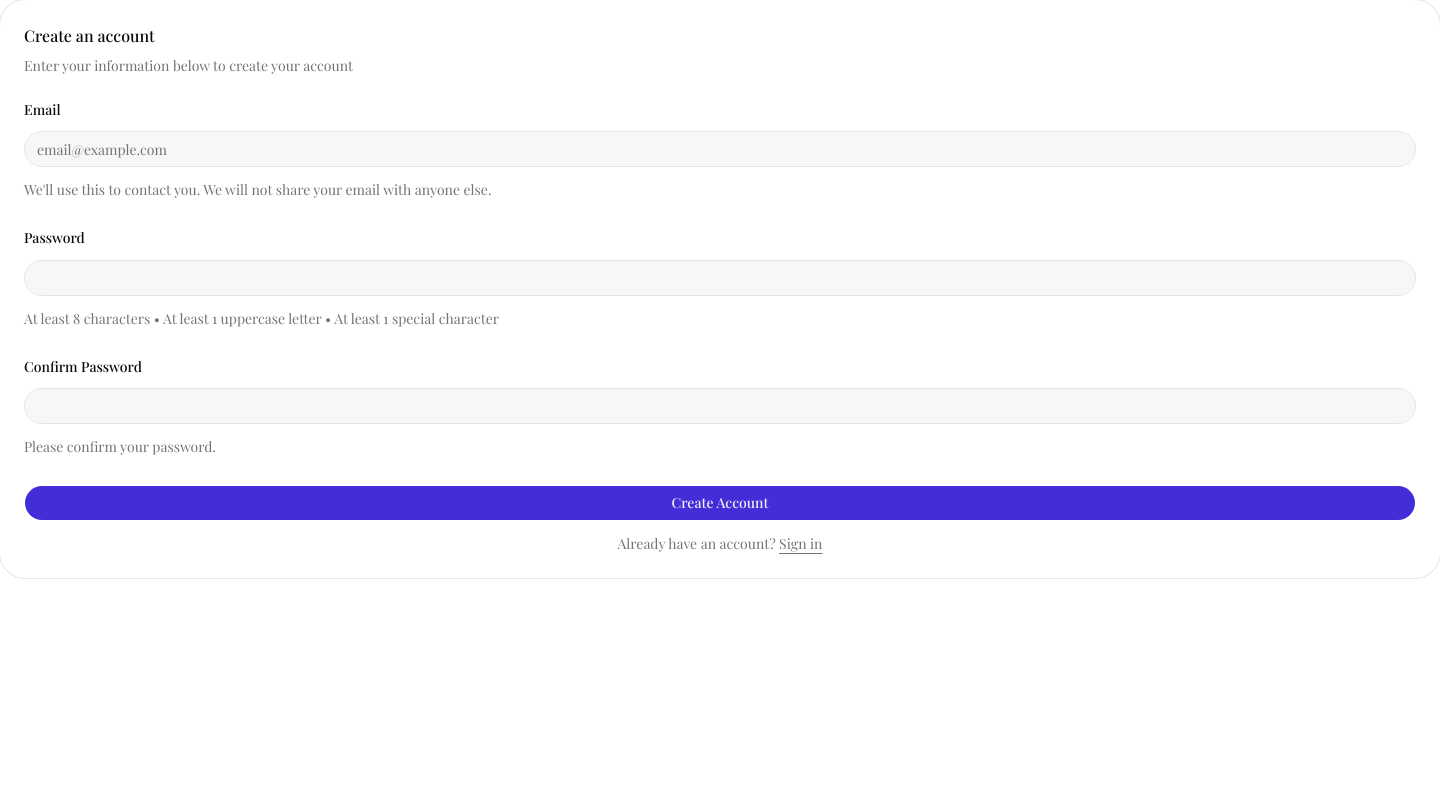
SignupForm › shows error when passwords do not match
This screenshot has width=1440, height=810.
Type "test@example.com" into the field labelled "Email".
click(720, 149); type("test@example.com")  # box [24,131,1416,167]
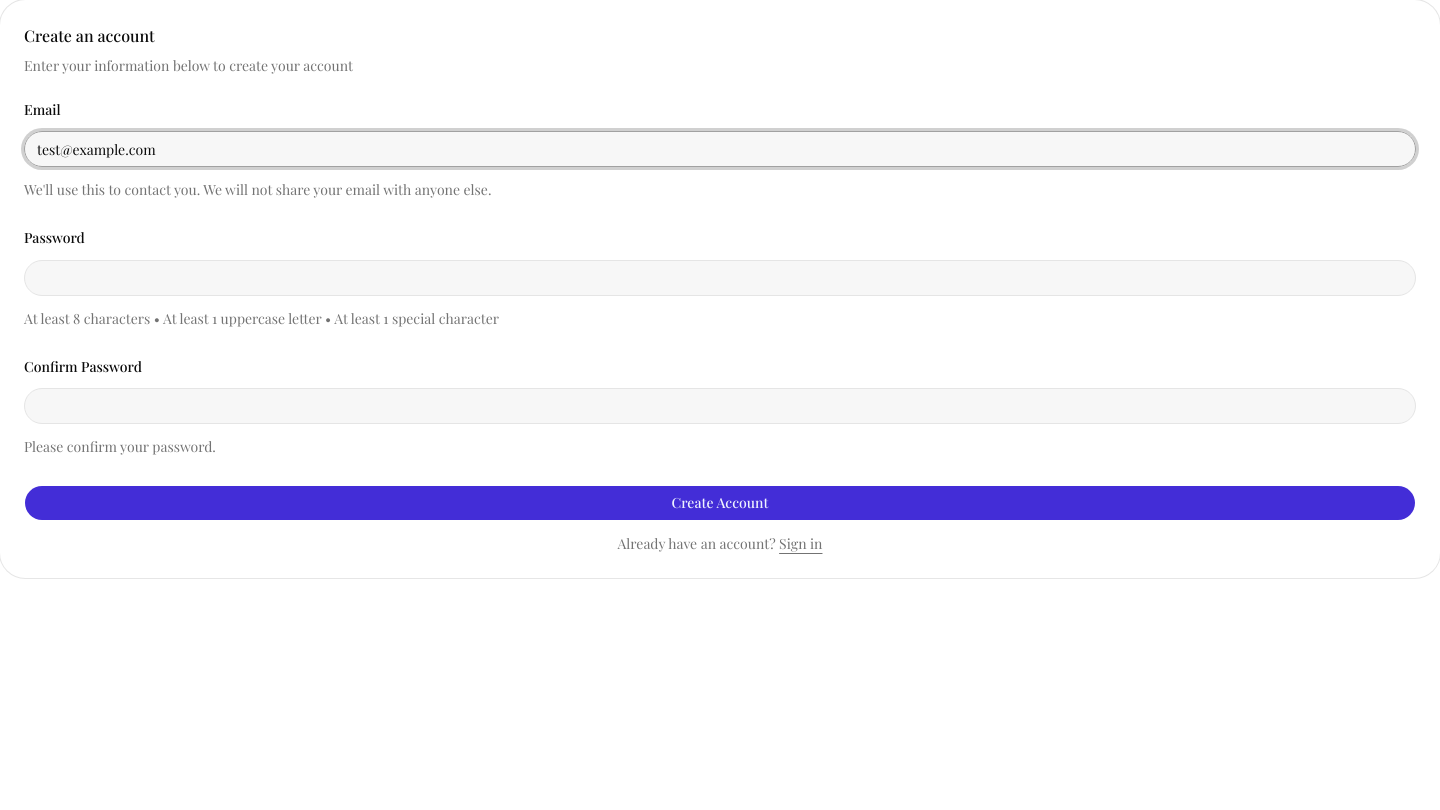
Type "Password1!" into the password field labelled "Password".
click(720, 278); type("Password1!")  # box [24,260,1416,296]
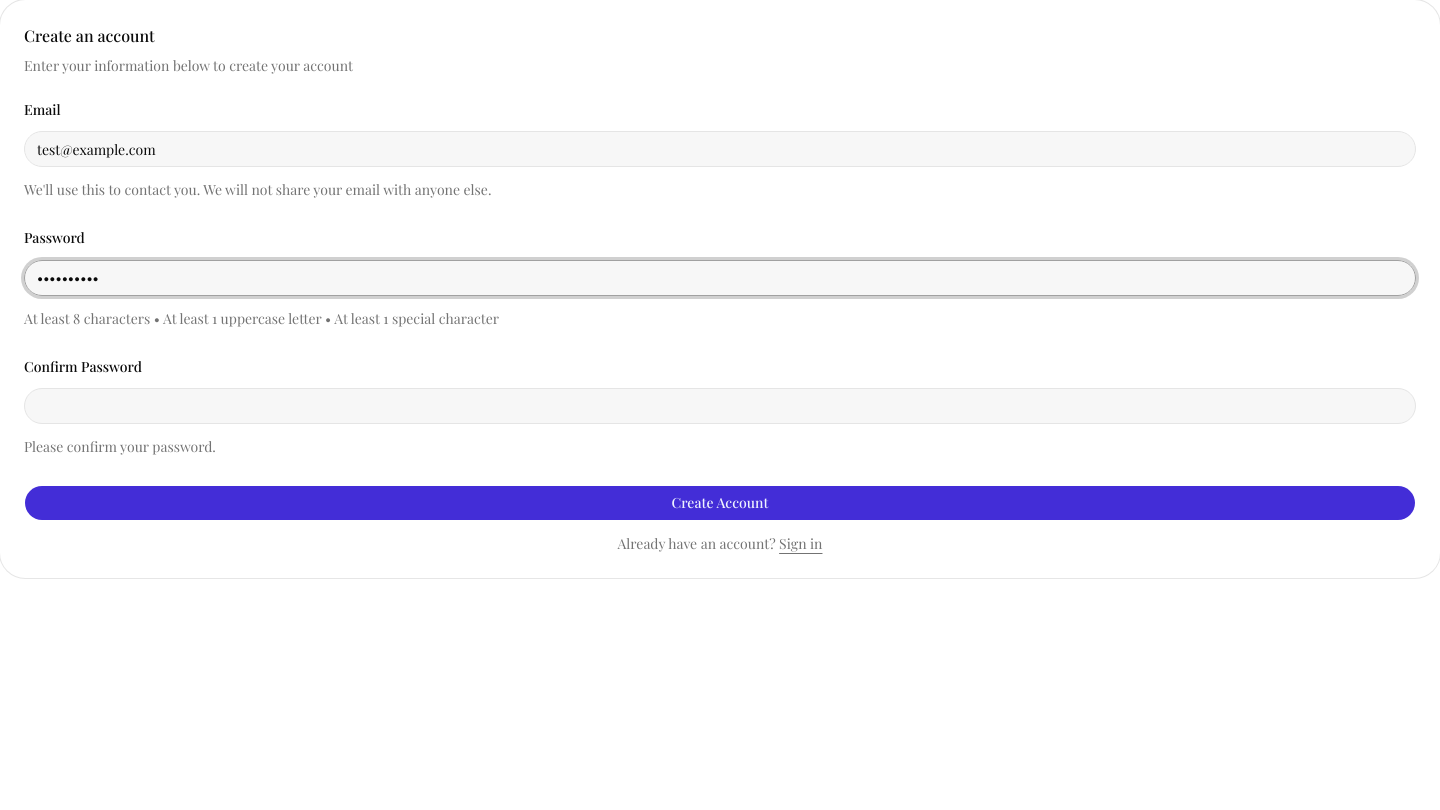
Type "Password2!" into the password field labelled "Confirm Password".
click(720, 406); type("Password2!")  # box [24,388,1416,424]
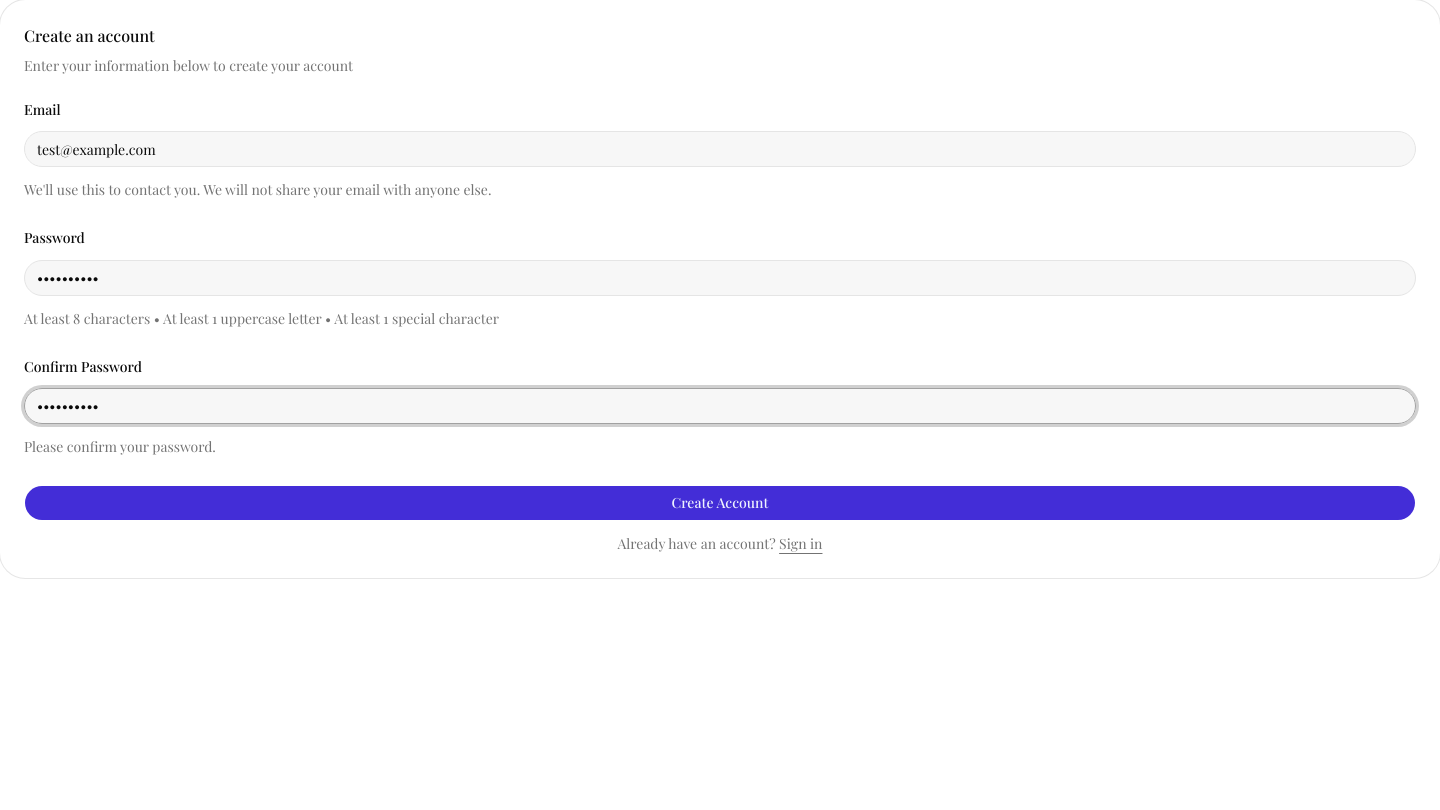
Click the button "Create Account".
click(720, 503)  # box [24,485,1416,521]
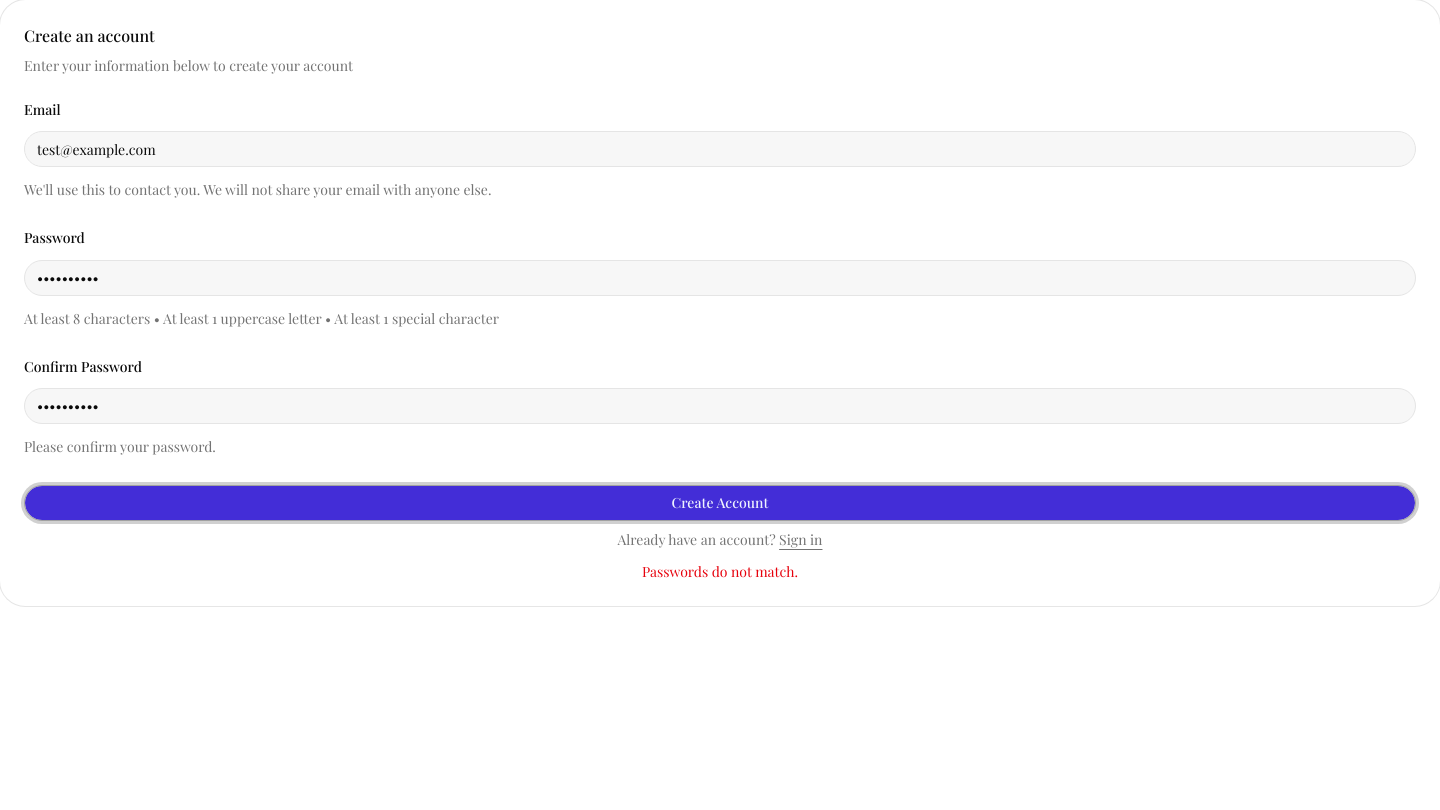
Now the text "Passwords do not match." is shown, box [642,562,798,581]
